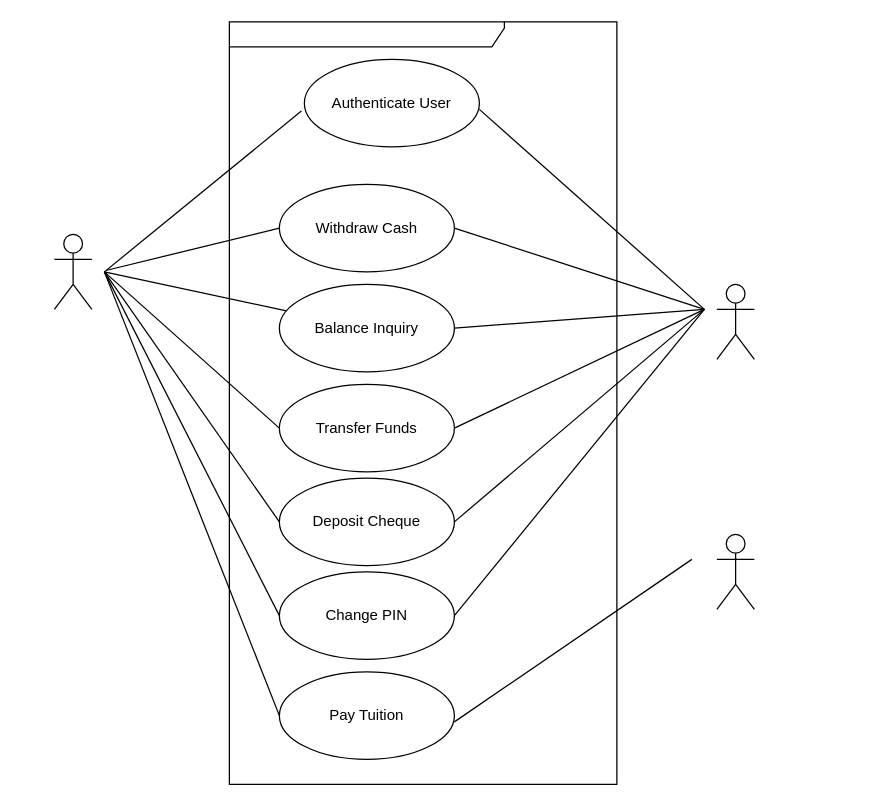
Some shapes in this 876 by 806 pixel diagram are drawn without their labels. The centre of each missing label's shape, as x and y in pixels:
Concordia User: (x=72, y=271)
iBank Concordia ABM System: (x=422, y=402)
Simulated Banking System: (x=735, y=321)
Simulated Concordia Billing System: (x=735, y=571)
